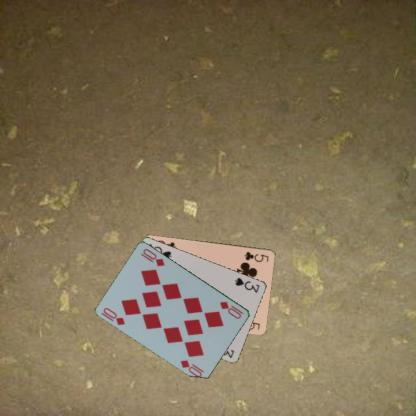10d: (217, 299, 245, 320), (100, 305, 126, 327)
3s: (232, 275, 261, 294)
5c: (241, 249, 270, 263)
